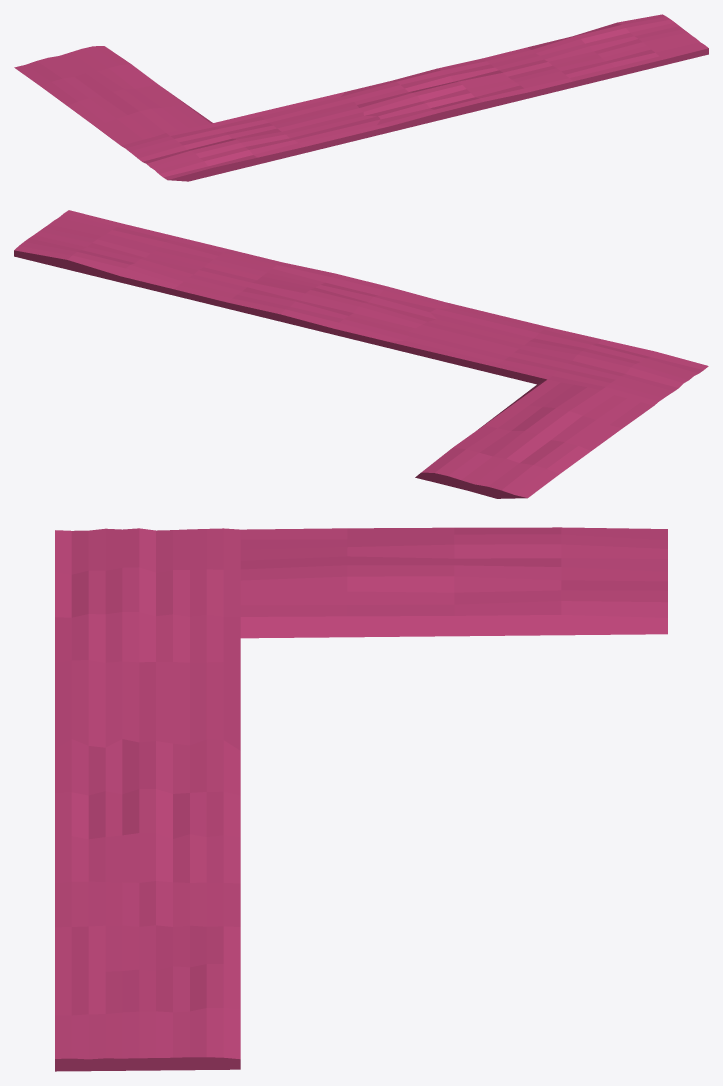
File: level1dusmanyol (1).fbx
3 views of the same model, one above another, from view 1: azimuth 30°, elevation 25°; view 2: azimuth 150°, elevation 25°; view 3: azimuth 270°, elevation 25° (orthographic). The views are drawn at different scales.
Parts seen in each view (by area): view 1: Plane.009; view 2: Plane.009; view 3: Plane.009.
Boxes of the visible parts, x1,y1,x2,y2 form: Plane.009: (14,14,708,181); Plane.009: (14,210,708,498); Plane.009: (55,527,667,1071).
Size of the model in its own units: 5171 by 101 by 2534.
